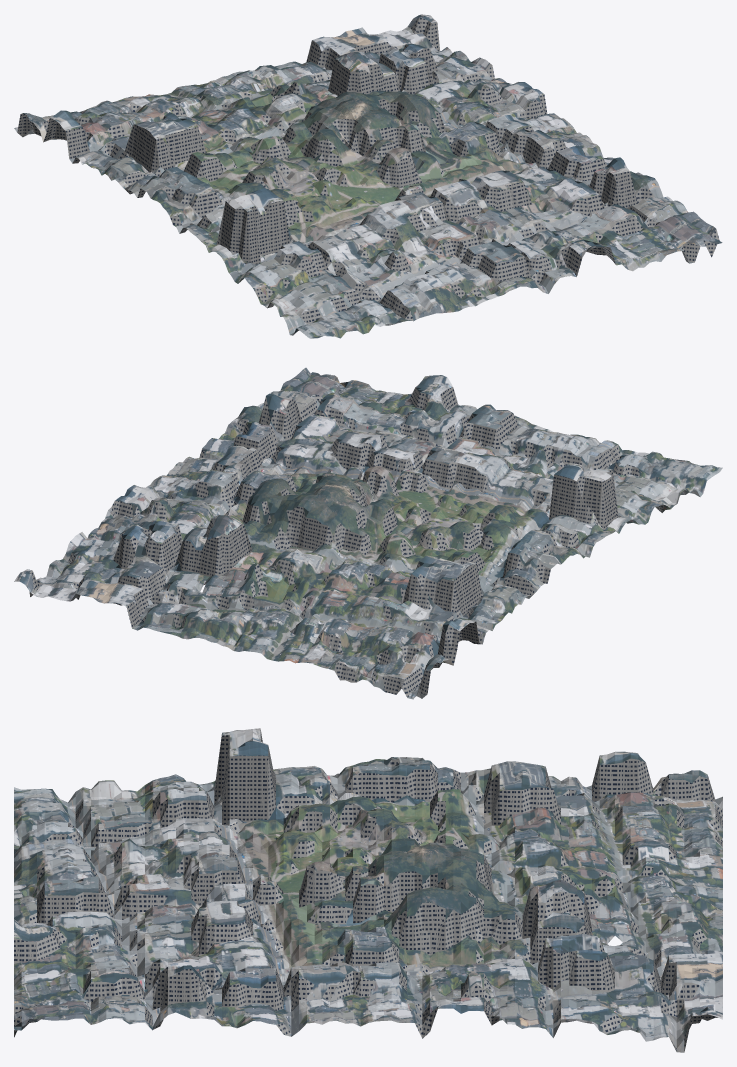
The model's file is pacheights-world.glb.
3 renders of one model, top to bottom at view 1: azimuth 30°, elevation 25°; view 2: azimuth 150°, elevation 25°; view 3: azimuth 270°, elevation 25°, orthographic. The views are drawn at different scales.
Visible parts, largest first — view 1: terrain; view 2: terrain; view 3: terrain.
Part boxes in pixels (box(x1,y1,x2,y2)): terrain: box(14, 14, 722, 338); terrain: box(14, 367, 722, 699); terrain: box(14, 728, 722, 1052).
Size of the model in its own units: 438 by 87.02 by 552.
Materials: 2 (2 with a texture image).
